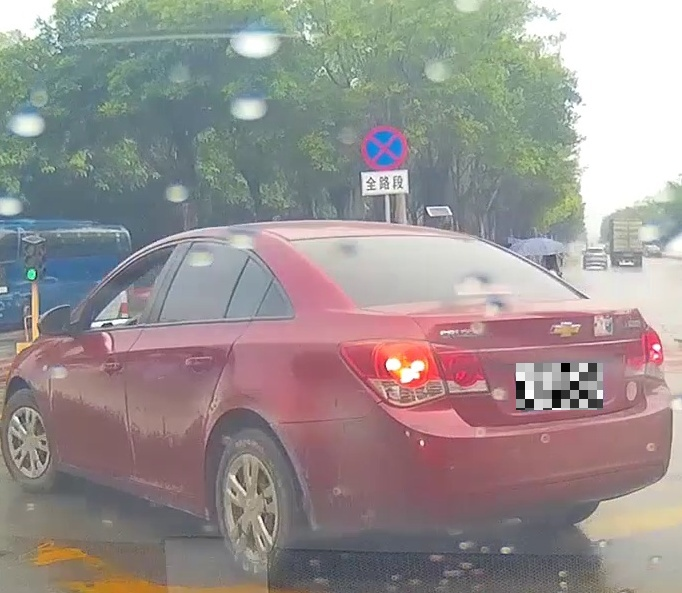L_light: (338, 337, 490, 410)
R_light: (624, 324, 668, 383)
T_light: (452, 283, 518, 295)
day-left: (276, 219, 674, 580)
plate_1: (516, 363, 603, 410)
